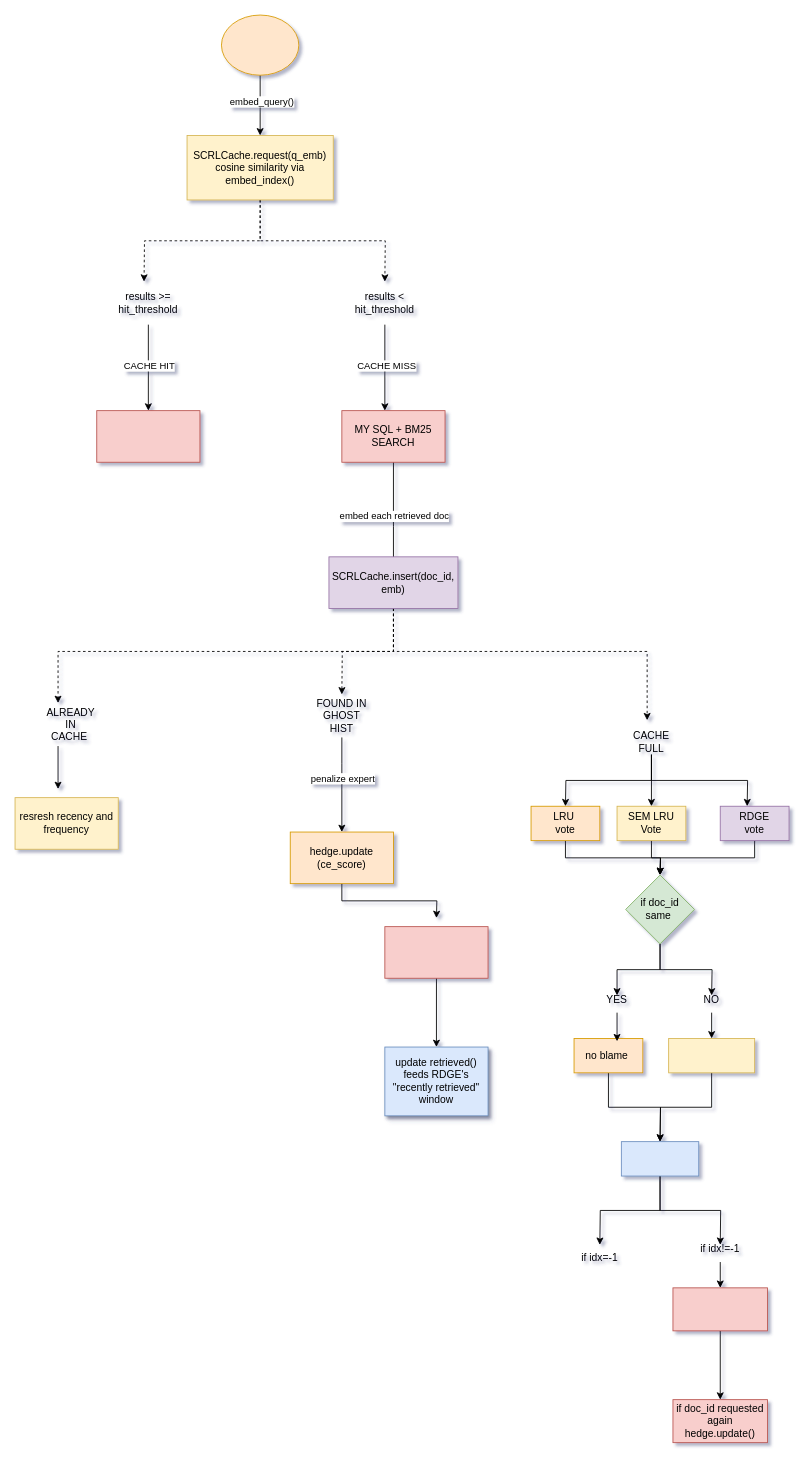
This 809x1463 diagram has some shape labels left out. Each missing label, with the centre of its shape:
"ADD NEW ENTRY TOLFU,SEM LRU,RDGE" belongs at (x=436, y=952).
"doc_id picked" belongs at (x=659, y=1158).
"expert got picked on basis of weight" belongs at (x=711, y=1055).
"GHOST QUEUE APPEND" belongs at (x=720, y=1309).
"HIT UPDATE (bump recency + frequency)" belongs at (x=148, y=436).
"QUERY ARRIVE" belongs at (x=260, y=44).
